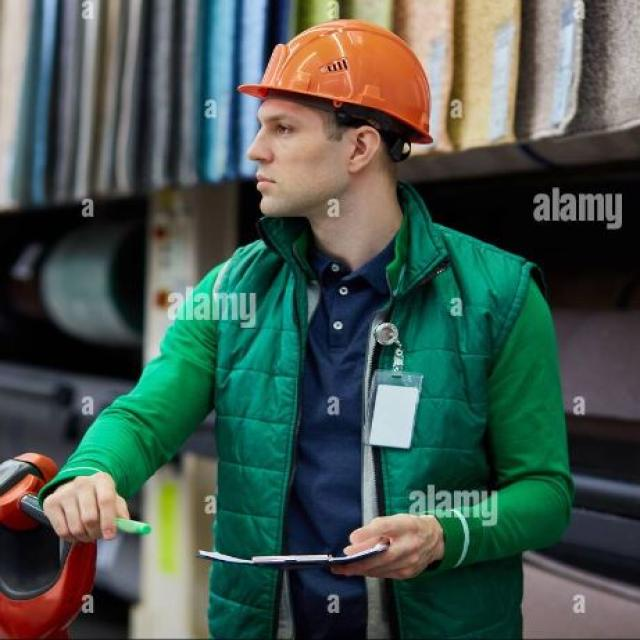Helmet: (209, 15, 474, 285)
